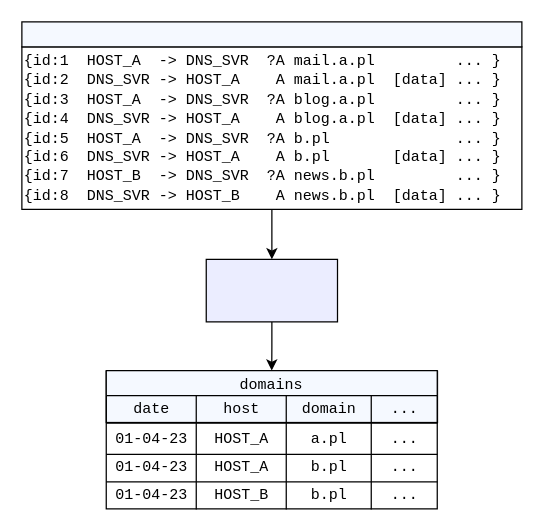
The diagram is 544 pixels wide and 531 high, and some of its shapes have lost their labels. Here are the shapes that lost their labels. From the top down, the box of each, then its label:
(21, 21, 522, 47): samples
(205, 258, 338, 322): moduł analiz
